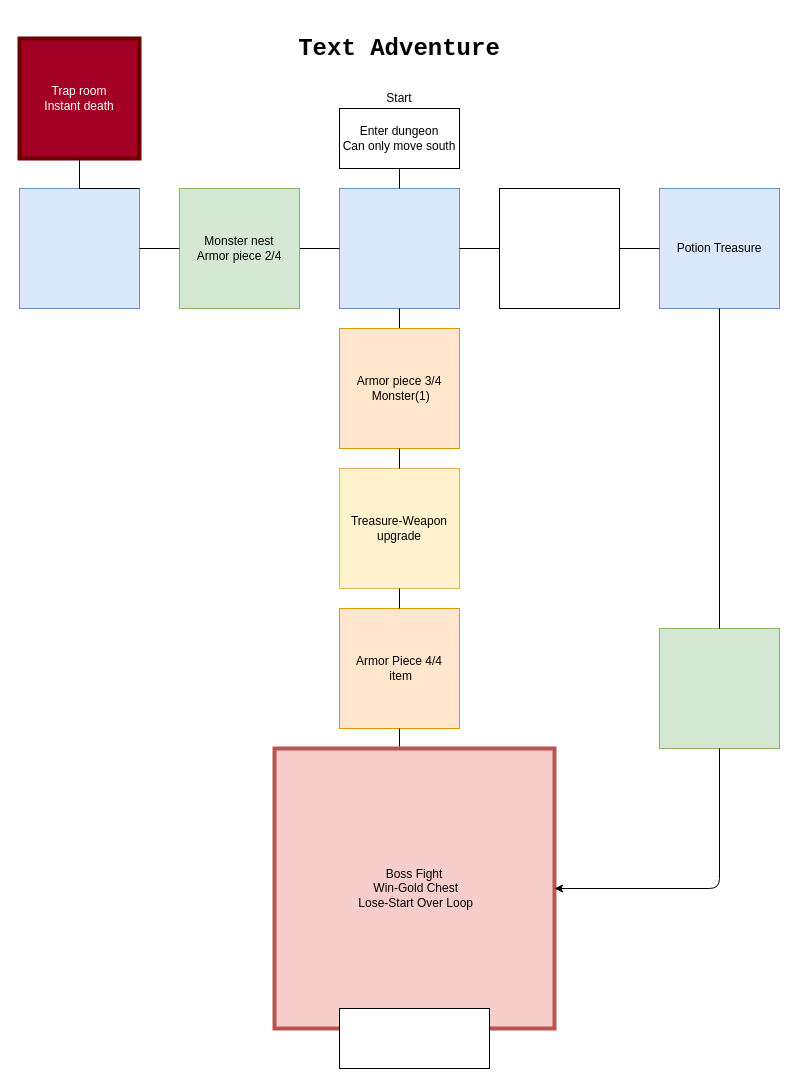
The diagram is 797 pixels wide and 1086 high, and some of its shapes have lost their labels. Here are the shapes that lost their labels. From the top down, the centre of each, then its label:
(79,248): Potion
(399,248): Weapon & Armor piece1/4
(719,688): Monster nest- mini boss item
(414,1038): End Escaped Dungeon Close Program
